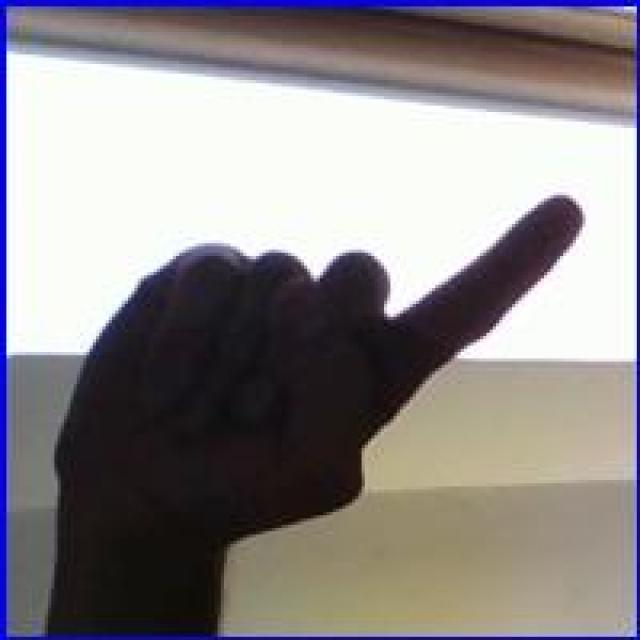Z: (54, 192, 586, 525)
